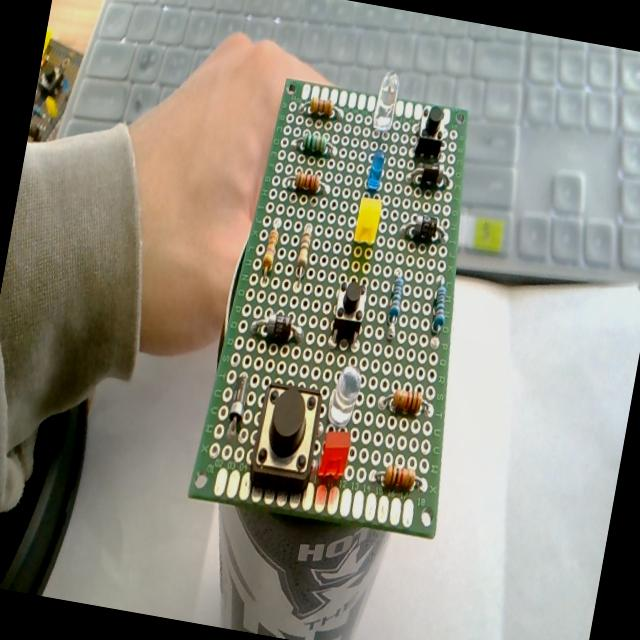diode: (252, 306, 308, 346), (223, 371, 249, 436), (402, 212, 448, 246), (406, 161, 450, 194)
led: (324, 361, 364, 427), (369, 63, 405, 136), (314, 425, 354, 483), (352, 193, 383, 246), (364, 144, 389, 192)
resistor: (377, 382, 433, 420), (370, 462, 424, 495), (292, 220, 315, 288), (383, 272, 406, 339), (427, 274, 452, 334), (261, 226, 280, 274), (294, 166, 322, 193), (302, 131, 328, 156), (308, 96, 334, 118)
switch: (245, 378, 326, 497), (328, 276, 370, 346), (412, 102, 448, 162)
